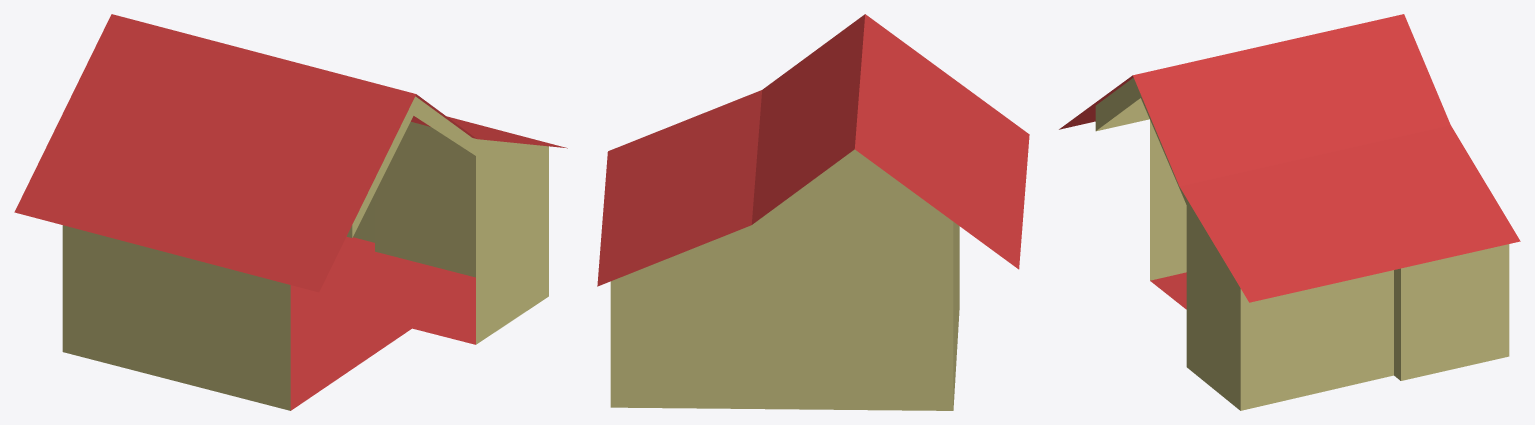
3 views of the same model, side by side, from view 1: azimuth 30°, elevation 25°; view 2: azimuth 150°, elevation 25°; view 3: azimuth 270°, elevation 25° (orthographic). The views are drawn at different scales.
Bounding box in the file's own units: 24.73 × 22.76 × 13.79.
